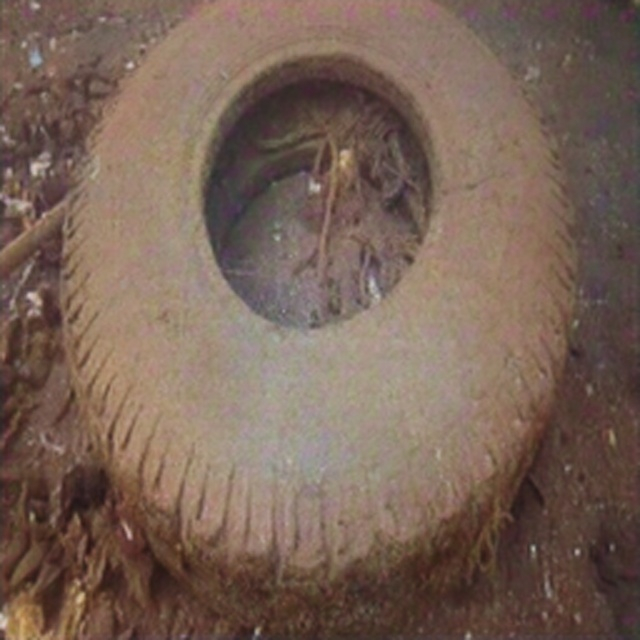mine: (60, 0, 575, 640)
